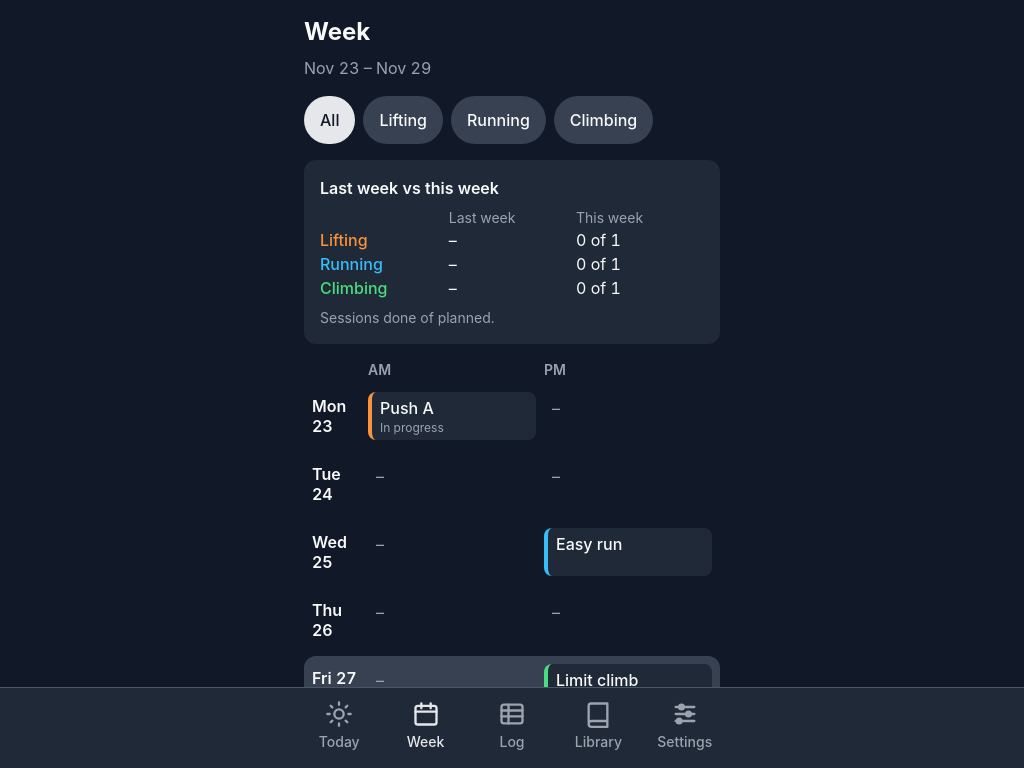
Week › labels an open log and offers to resume it
Click the button with aria-label "Push A, AM, In progress".
click(452, 416)  # box top-left (368, 392), bottom-right (536, 440)
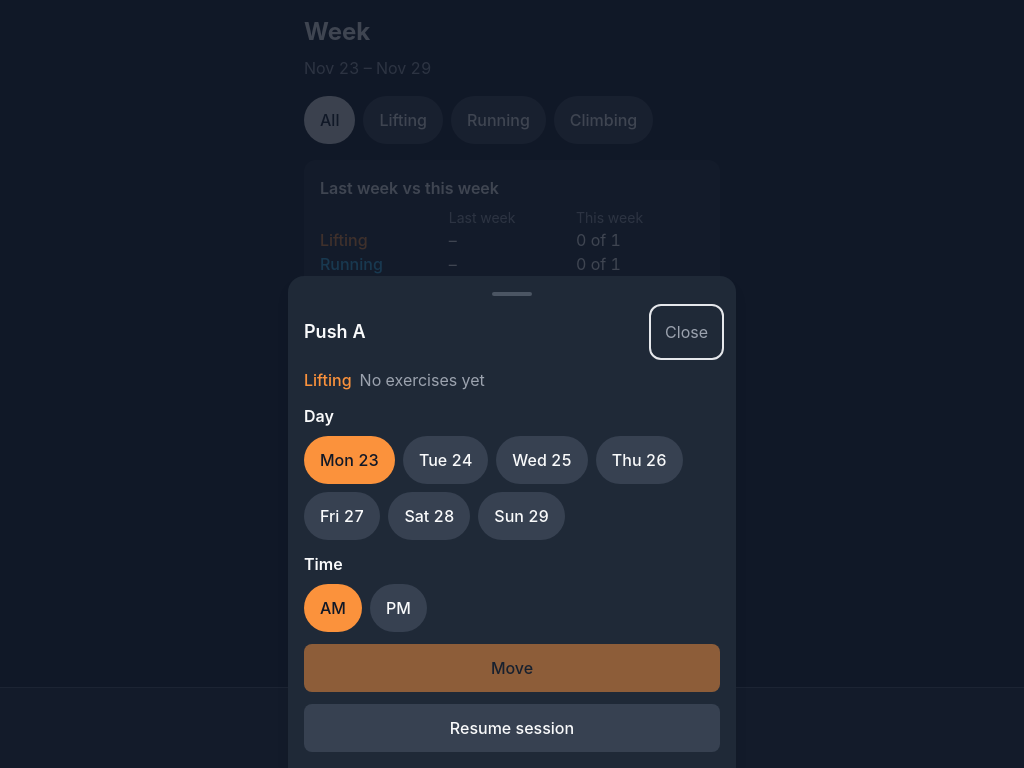
Click the button "Resume session".
click(512, 728)  # box top-left (304, 704), bottom-right (720, 752)
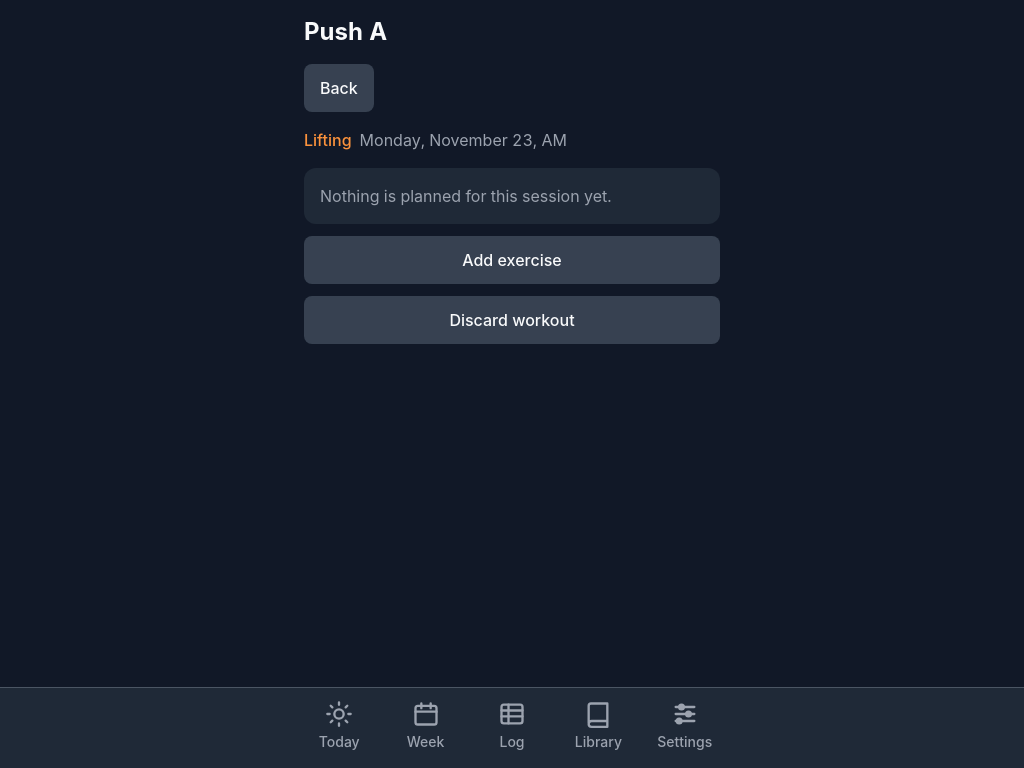
expect the element named "Lift player" is shown: met, box top-left (304, 168), bottom-right (720, 344)
